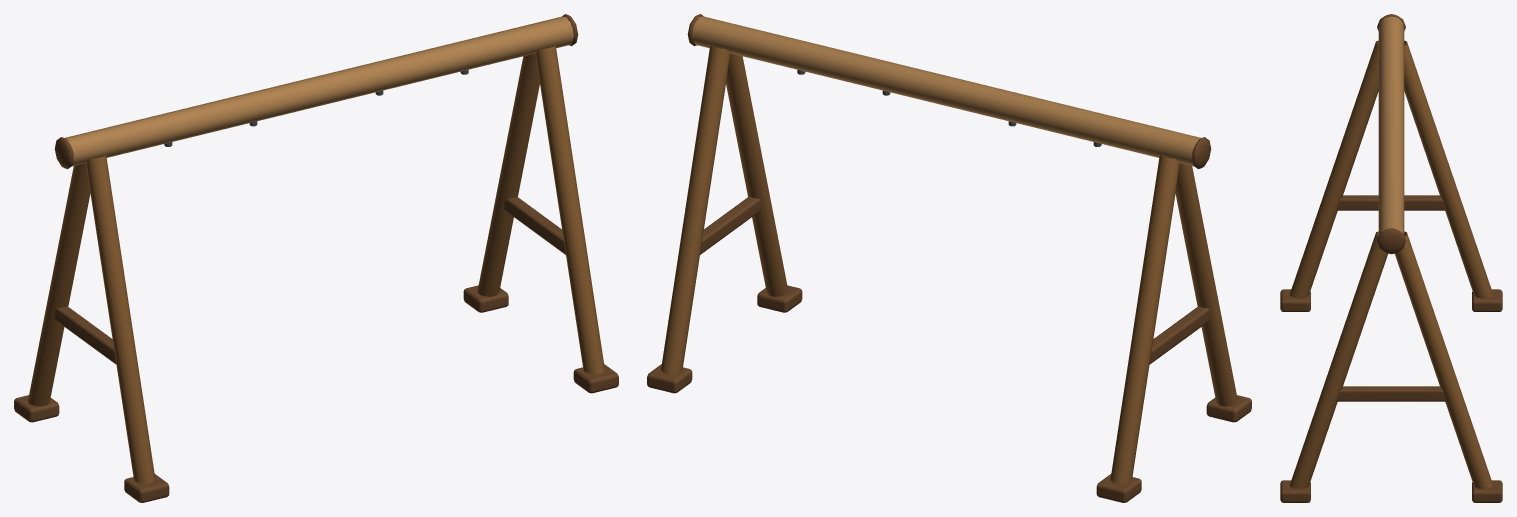
Rendered from swing_set.glb.
3 views of the same model, side by side, from view 1: azimuth 30°, elevation 25°; view 2: azimuth 150°, elevation 25°; view 3: azimuth 270°, elevation 25° (orthographic). The views are drawn at different scales.
Parts seen in each view (by area): view 1: swing_set_main; view 2: swing_set_main; view 3: swing_set_main.
Part boxes in pixels (left/top/right/bottom): swing_set_main: left=14, top=14, right=618, bottom=502; swing_set_main: left=647, top=14, right=1251, bottom=502; swing_set_main: left=1280, top=14, right=1502, bottom=502.
Size of the model in its own units: 3.02 by 1.82 by 1.3.
